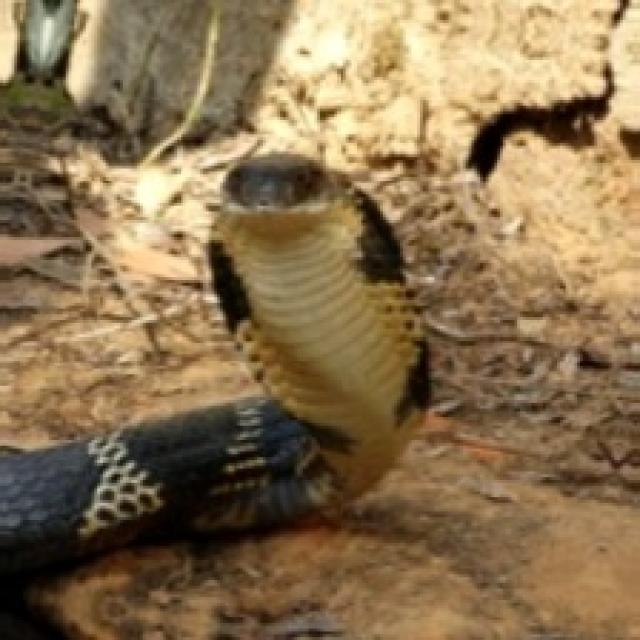king cobra: (0, 154, 426, 569), (0, 154, 420, 574)
